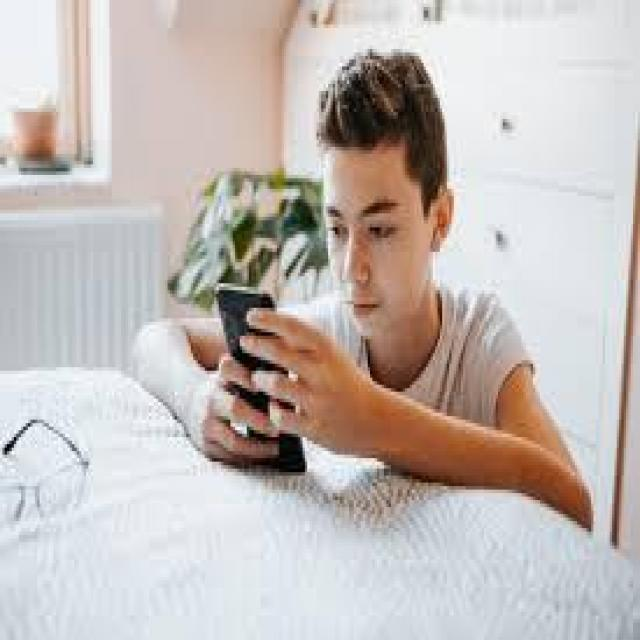person: (156, 7, 596, 525)
